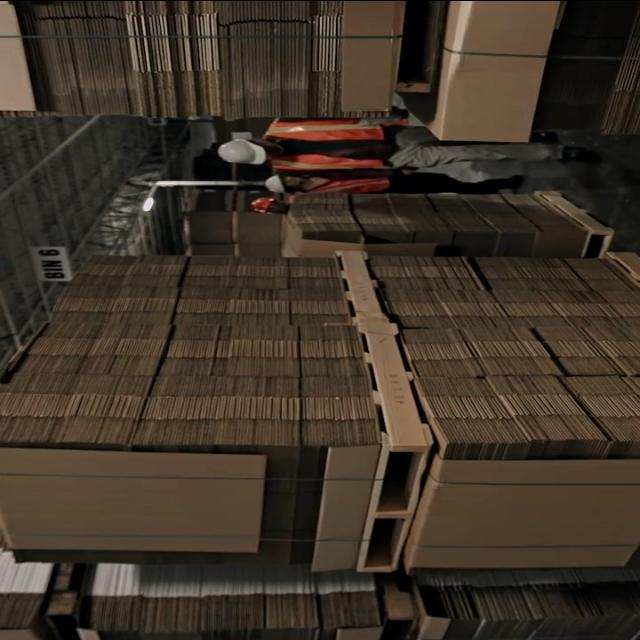helmet: (207, 136, 269, 167), (246, 194, 280, 214), (264, 169, 290, 195)
jacket: (259, 114, 399, 172)
